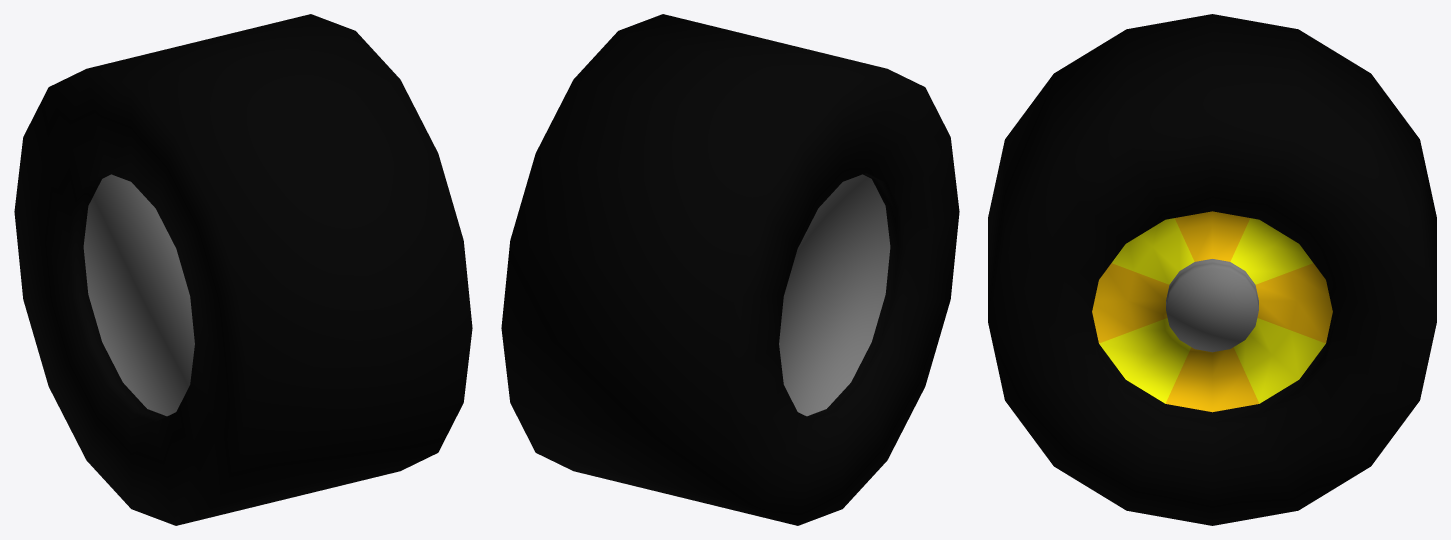
The model's file is kart_wheel.obj.
3 views of the same model, side by side, from view 1: azimuth 30°, elevation 25°; view 2: azimuth 150°, elevation 25°; view 3: azimuth 270°, elevation 25° (orthographic). The views are drawn at different scales.
Parts seen in each view (by area): view 1: Wheels; view 2: Wheels; view 3: Wheels.
Boxes of the visible parts, x1,y1,x2,y2 form: Wheels: [14, 14, 472, 525]; Wheels: [501, 14, 959, 525]; Wheels: [988, 14, 1436, 525].
Bounding box in the file's own units: 0.2451 × 0.4419 × 0.4419.
